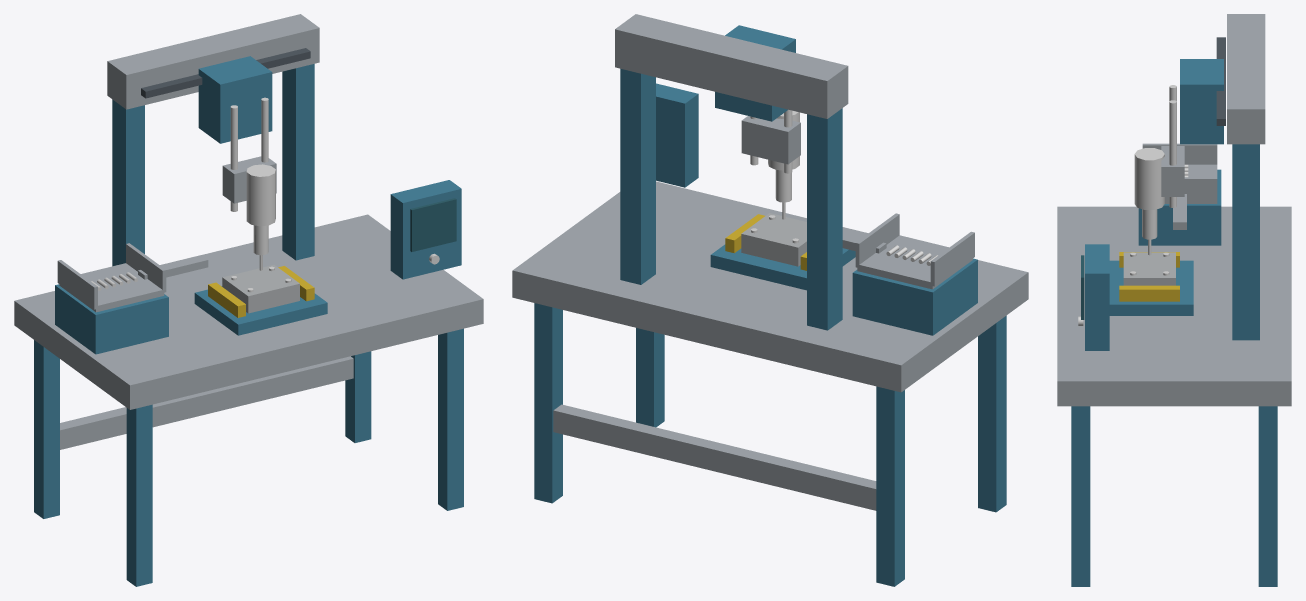
3 views of the same model, side by side, from view 1: azimuth 30°, elevation 25°; view 2: azimuth 150°, elevation 25°; view 3: azimuth 270°, elevation 25° (orthographic). The views are drawn at different scales.
Visible parts, largest first — view 1: table, xBeam, lowerBrace, column1, carriage, column0, feederBase, leg01, leg11, leg00, controlPanel, fixtureBase (+11 smaller); view 2: table, xBeam, lowerBrace, column0, column1, feederBase, leg00, leg10, leg01, controlPanel, leg11, workpiece (+6 smaller); view 3: table, column1, xBeam, leg10, leg11, carriage, feederBase, controlPanel, fixtureBase, motor, workpiece, zSlider (+8 smaller).
Boxes of the visible parts, bbox=[...] form: table: bbox=[14, 214, 483, 409]; xBeam: bbox=[107, 14, 319, 109]; lowerBrace: bbox=[60, 356, 353, 449]; column1: bbox=[282, 64, 314, 260]; carriage: bbox=[198, 56, 272, 143]; column0: bbox=[112, 99, 144, 266]; feederBase: bbox=[55, 284, 168, 354]; leg01: bbox=[126, 404, 152, 586]; leg11: bbox=[438, 328, 463, 510]; leg00: bbox=[34, 340, 59, 518]; controlPanel: bbox=[390, 180, 461, 279]; fixtureBase: bbox=[194, 286, 327, 335]; table: bbox=[512, 181, 1028, 392]; xBeam: bbox=[615, 14, 848, 118]; lowerBrace: bbox=[553, 404, 876, 510]; column0: bbox=[807, 108, 842, 330]; column1: bbox=[620, 68, 655, 284]; feederBase: bbox=[852, 258, 977, 335]; leg00: bbox=[876, 386, 904, 586]; leg10: bbox=[534, 303, 562, 503]; leg01: bbox=[978, 315, 1006, 512]; controlPanel: bbox=[656, 83, 698, 187]; leg11: bbox=[636, 328, 664, 427]; workpiece: bbox=[741, 213, 806, 266]; table: bbox=[1057, 206, 1291, 406]; column1: bbox=[1232, 144, 1259, 340]; xBeam: bbox=[1227, 14, 1265, 144]; leg10: bbox=[1258, 406, 1277, 586]; leg11: bbox=[1071, 406, 1090, 586]; carriage: bbox=[1180, 59, 1223, 144]; feederBase: bbox=[1138, 169, 1221, 245]; controlPanel: bbox=[1085, 244, 1109, 350]; fixtureBase: bbox=[1109, 260, 1193, 315]; motor: bbox=[1134, 148, 1164, 209]; workpiece: bbox=[1123, 252, 1175, 285]; zSlider: bbox=[1161, 146, 1184, 196].
Bounding box in the file's own units: 1.5 × 1.78 × 0.85.
